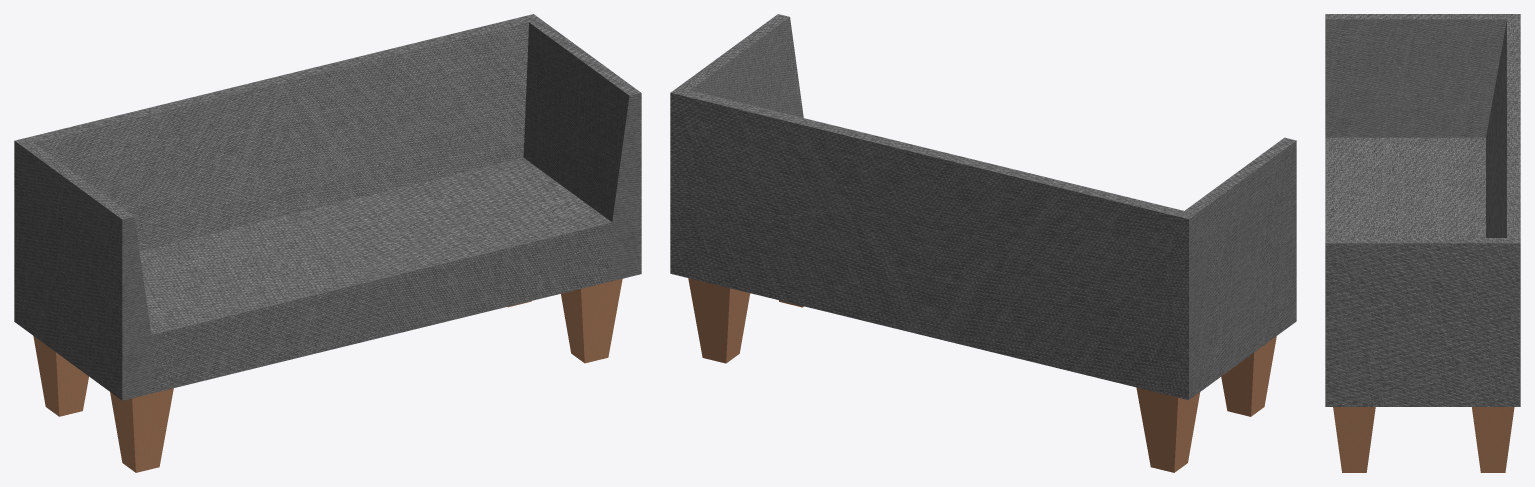
File: Couch2V1.gltf
The picture shows the model from 3 angles, left to right: view 1: azimuth 30°, elevation 25°; view 2: azimuth 150°, elevation 25°; view 3: azimuth 270°, elevation 25°; orthographic projection. The views are drawn at different scales.
Parts seen in each view (by area): view 1: Cube, Cube.004, Cube.002, Cube.005; view 2: Cube, Cube.005, Cube.003, Cube.004; view 3: Cube, Cube.003, Cube.002.
Part boxes in pixels (x1,y1,x2,y2): Cube: [14, 14, 641, 400]; Cube.004: [110, 388, 173, 472]; Cube.002: [561, 278, 622, 363]; Cube.005: [33, 336, 88, 416]; Cube: [670, 14, 1296, 399]; Cube.005: [1136, 387, 1200, 472]; Cube.003: [688, 278, 750, 363]; Cube.004: [1221, 336, 1276, 416]; Cube: [1325, 14, 1520, 406]; Cube.003: [1472, 407, 1514, 472]; Cube.002: [1333, 407, 1375, 472].
Size of the model in its own units: 1.39 by 0.68 by 0.5.
1 material, 1 textured.
